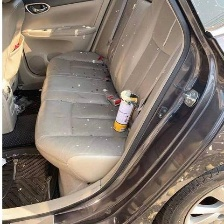aerosol_cans: (111, 88, 143, 134)
